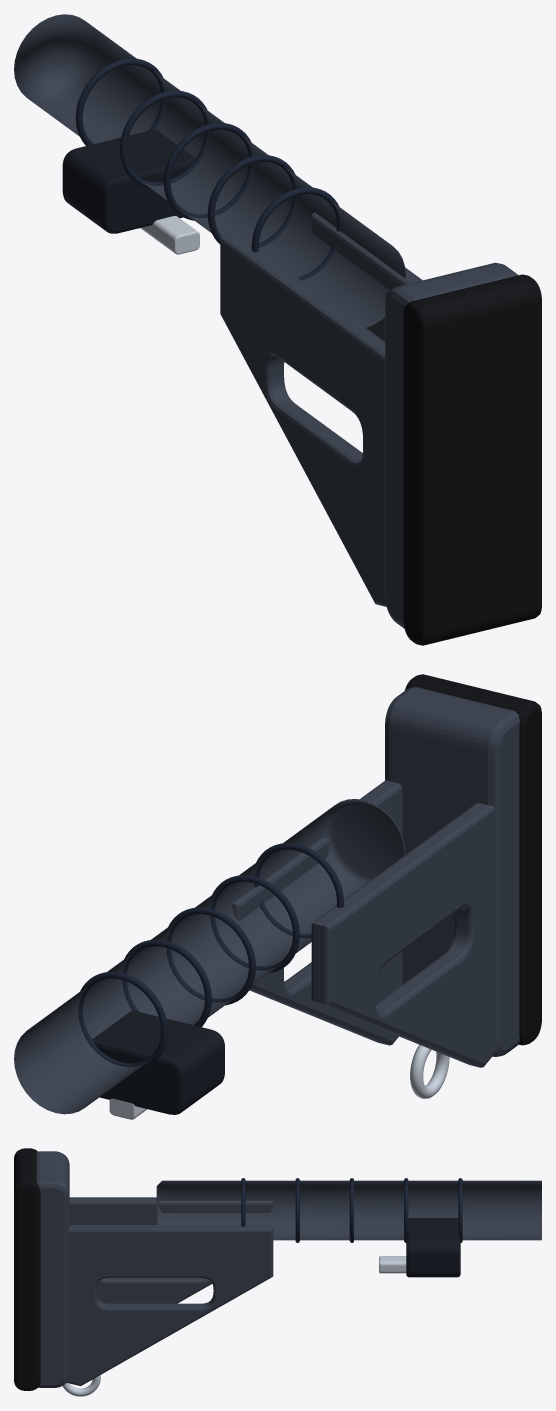
File: attach_bracestock.glb
3 views of the same model, one above another, from view 1: azimuth 30°, elevation 25°; view 2: azimuth 150°, elevation 25°; view 3: azimuth 270°, elevation 25° (orthographic). The views are drawn at different scales.
Visible parts, largest first — view 1: attach_bracestock_rubber, attach_bracestock_tube, attach_bracestock_strut-1, attach_bracestock_lock, attach_bracestock_pad, attach_bracestock_strut1, attach_bracestock_notch2, attach_bracestock_notch1, attach_bracestock_notch3, attach_bracestock_lever, attach_bracestock_notch0, attach_bracestock_notch4; view 2: attach_bracestock_strut-1, attach_bracestock_tube, attach_bracestock_pad, attach_bracestock_rubber, attach_bracestock_lock, attach_bracestock_strut1, attach_bracestock_notch0, attach_bracestock_notch2, attach_bracestock_notch3, attach_bracestock_notch1, attach_bracestock_loop, attach_bracestock_notch4; view 3: attach_bracestock_strut1, attach_bracestock_tube, attach_bracestock_pad, attach_bracestock_strut-1, attach_bracestock_rubber, attach_bracestock_lock, attach_bracestock_lever, attach_bracestock_loop, attach_bracestock_notch2, attach_bracestock_notch3, attach_bracestock_notch0, attach_bracestock_notch1.
Boxes of the visible parts, x1,y1,x2,y2 form: attach_bracestock_rubber: (403,274,541,645); attach_bracestock_tube: (14,14,405,327); attach_bracestock_strut-1: (220,232,386,606); attach_bracestock_lock: (62,129,195,233); attach_bracestock_pad: (385,262,517,628); attach_bracestock_strut1: (311,212,422,341); attach_bracestock_notch2: (163,122,253,220); attach_bracestock_notch1: (119,90,209,188); attach_bracestock_notch3: (207,155,297,247); attach_bracestock_lever: (140,216,199,254); attach_bracestock_notch0: (75,58,165,145); attach_bracestock_notch4: (251,187,341,280); attach_bracestock_strut-1: (311,803,496,1067); attach_bracestock_tube: (14,799,405,1114); attach_bracestock_pad: (385,687,519,1056); attach_bracestock_rubber: (404,674,541,1045); attach_bracestock_lock: (92,1010,224,1114); attach_bracestock_strut1: (232,780,402,1045); attach_bracestock_notch0: (78,971,167,1069); attach_bracestock_notch2: (166,907,255,1005); attach_bracestock_notch3: (210,875,299,972); attach_bracestock_notch1: (122,939,211,1026); attach_bracestock_loop: (410,1044,449,1098); attach_bracestock_notch4: (254,843,343,938); attach_bracestock_strut1: (66,1225,273,1385); attach_bracestock_tube: (156,1180,541,1240); attach_bracestock_pad: (36,1151,69,1387); attach_bracestock_strut-1: (69,1197,273,1303); attach_bracestock_rubber: (14,1148,40,1390); attach_bracestock_lock: (406,1218,460,1277); attach_bracestock_lever: (379,1256,406,1273); attach_bracestock_loop: (62,1375,100,1396); attach_bracestock_notch2: (349,1178,353,1242); attach_bracestock_notch3: (295,1178,299,1242); attach_bracestock_notch0: (458,1178,462,1242); attach_bracestock_notch1: (404,1178,408,1242).
Size of the model in its own units: 0.032 by 0.094 by 0.1945.
